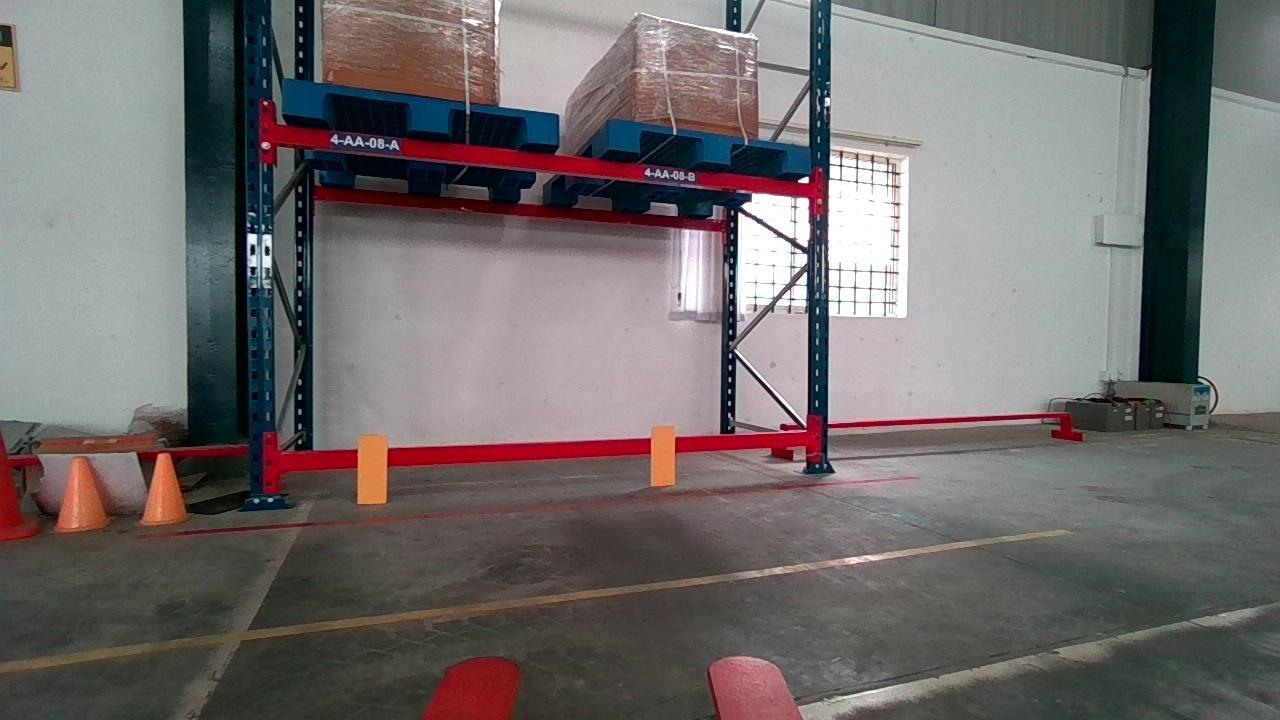h_rack: (273, 123, 818, 197), (277, 431, 815, 471)
orange_strip: (357, 435, 386, 502), (650, 427, 675, 487)
red_line: (137, 471, 920, 538)
small_pallet: (283, 76, 558, 143), (609, 117, 811, 175)
yellow_line: (0, 524, 1074, 674)
